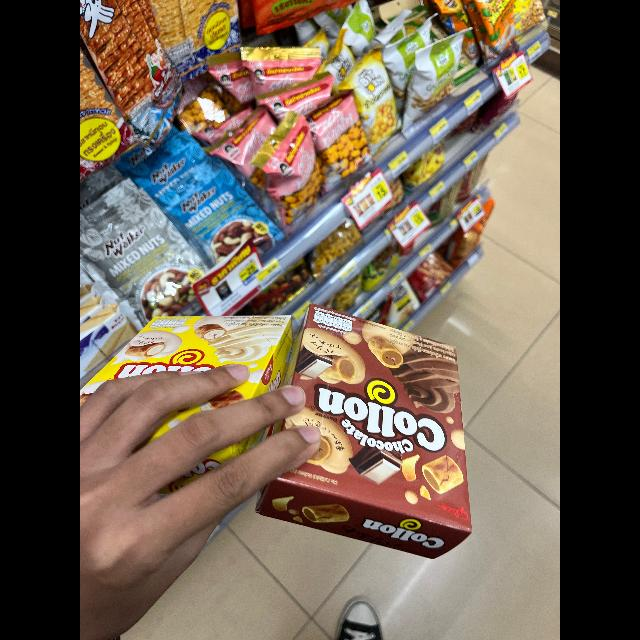cardboard_box: (244, 300, 496, 566), (80, 279, 300, 466)
